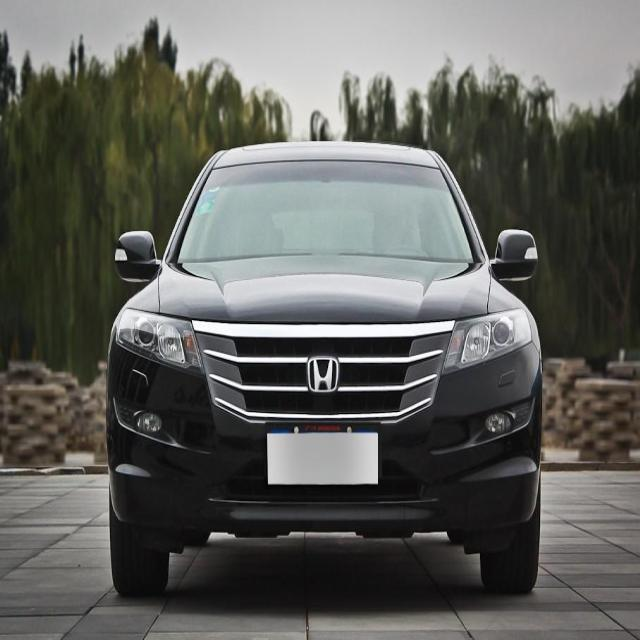front_bumper: (105, 340, 543, 536)
front_glass: (173, 161, 486, 265)
front_left_side_light: (439, 305, 533, 379)
front_left_side_mirror: (492, 226, 538, 284)
front_right_side_light: (114, 300, 204, 376)
front_right_side_mirror: (114, 226, 164, 286)
